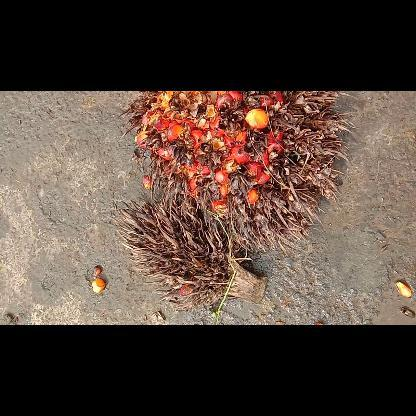Janjang kosong: (117, 191, 265, 311)
Terlalu masak: (119, 90, 351, 250)
